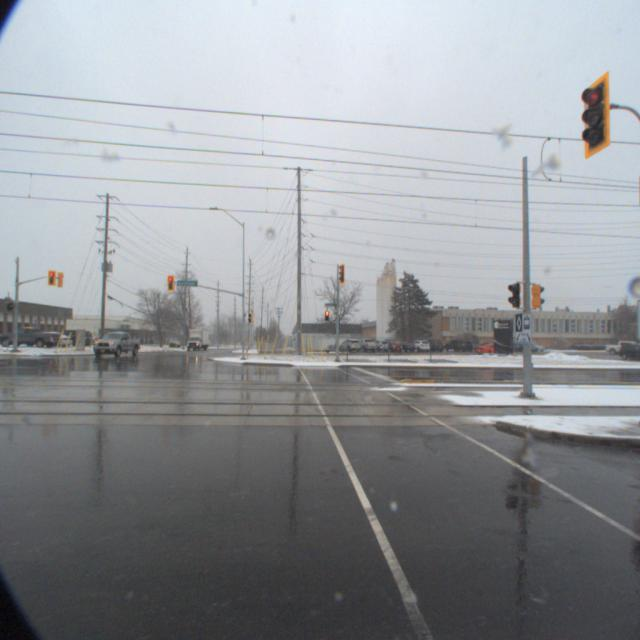Car: (353, 338, 377, 354)
Truck: (83, 332, 137, 360), (178, 330, 208, 352)
